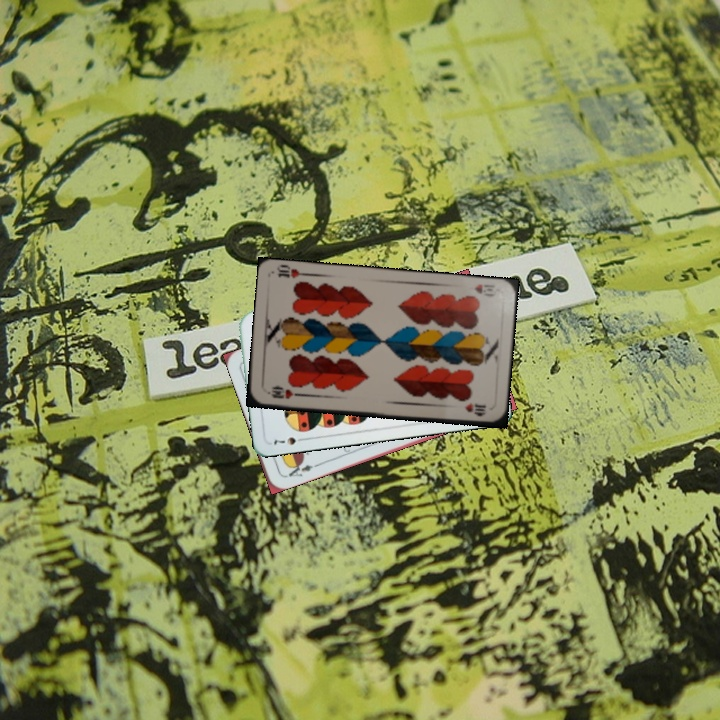EA: (281, 458, 320, 480)
H10: (263, 383, 303, 401), (470, 280, 501, 299)
S7: (270, 433, 308, 448)
